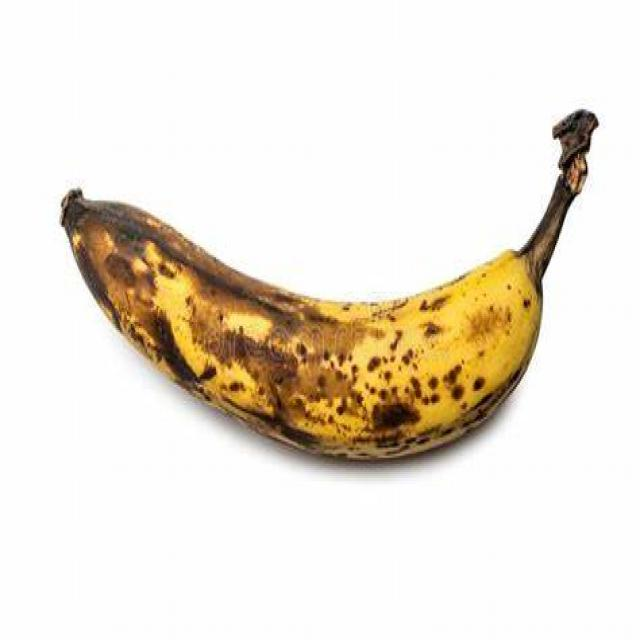Banana: (57, 116, 600, 463)
